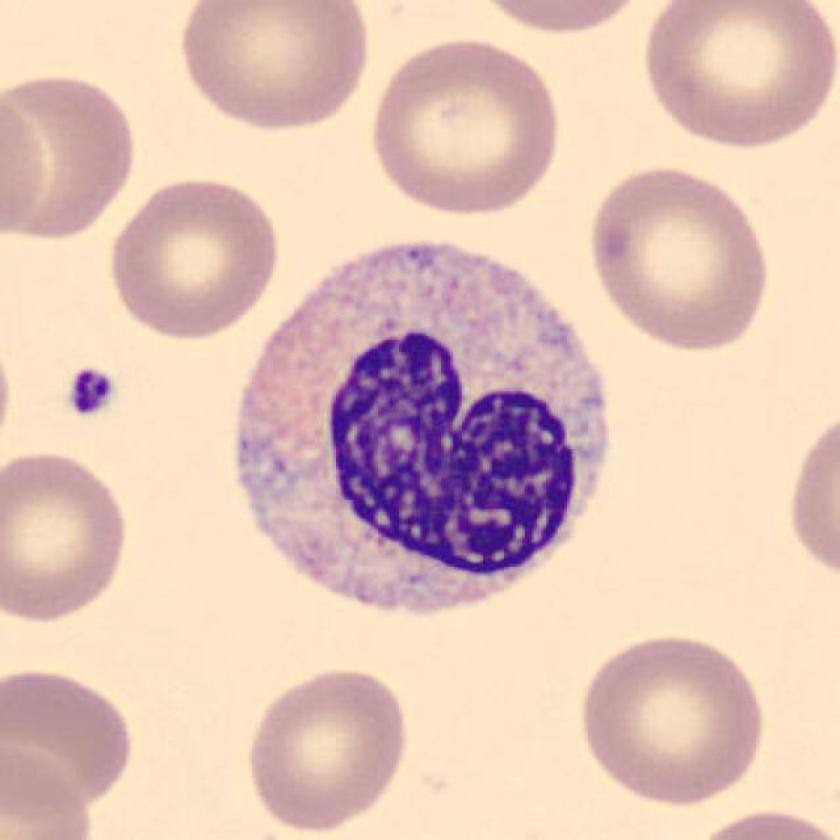neutrophil: (245, 243, 607, 612)
